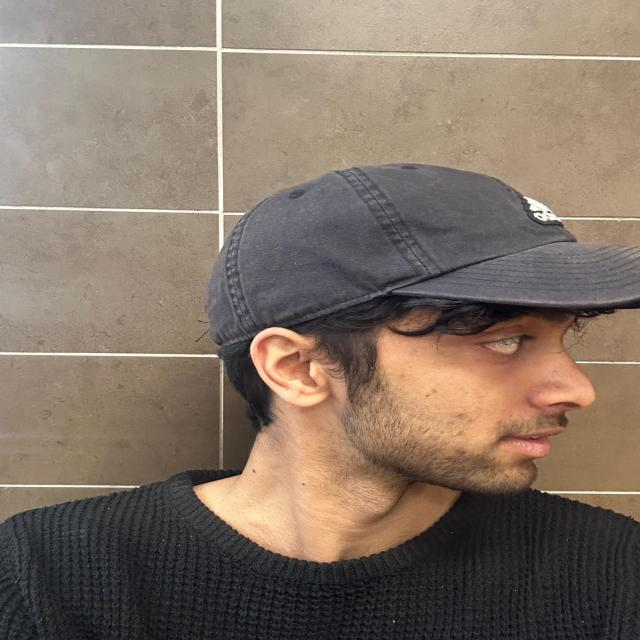cap: (178, 157, 640, 346)
